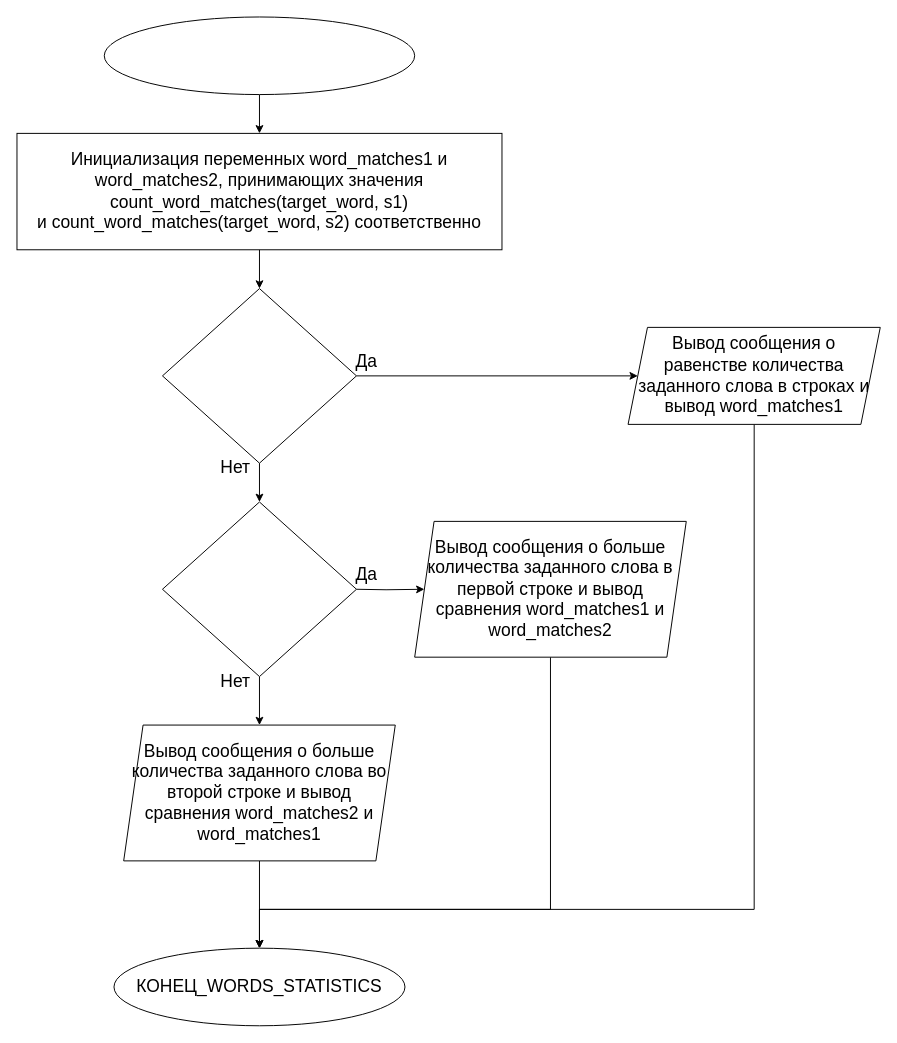
This 897x1043 diagram has some shape labels left out. Here are the shapes that lost their labels. From the top down, the centre of each, then its label:
At pixel 259 55: "НАЧАЛО_WORDS_STATISTICS (target_word[], s1[], s2[])".
At pixel 259 375: "word_matches1 == word_matches2".
At pixel 259 589: "word_matches1 > word_matches2".
